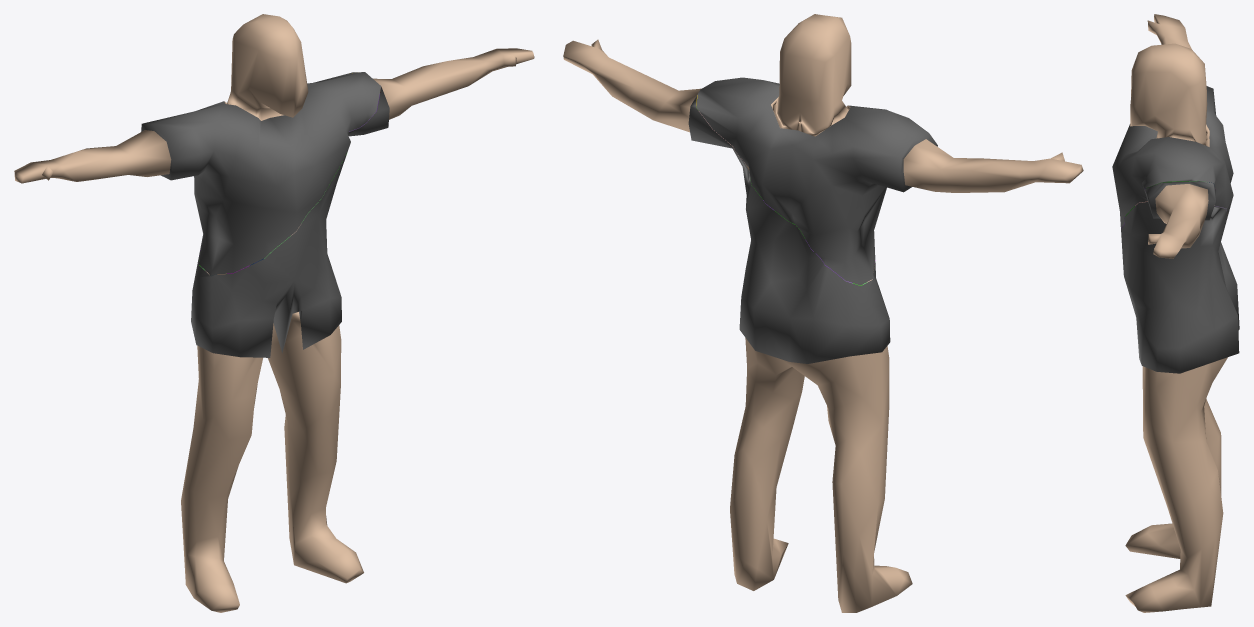
File: HelmetKnightFractured.fbx
The picture shows the model from 3 angles, left to right: view 1: azimuth 30°, elevation 25°; view 2: azimuth 150°, elevation 25°; view 3: azimuth 270°, elevation 25°; orthographic projection. The views are drawn at different scales.
Parts seen in each view (by area): view 1: Knight_cell, Knight_cell.001; view 2: Knight_cell, Knight_cell.001; view 3: Knight_cell, Knight_cell.001.
Part boxes in pixels (x1=…): Knight_cell: x1=181, y1=48, x2=534, y2=612; Knight_cell.001: x1=14, y1=14, x2=381, y2=275; Knight_cell: x1=563, y1=39, x2=912, y2=612; Knight_cell.001: x1=696, y1=14, x2=1083, y2=285; Knight_cell: x1=1121, y1=181, x2=1239, y2=612; Knight_cell.001: x1=1112, y1=14, x2=1233, y2=228.
Bounding box in the file's own units: 401 × 421 × 90.93.
